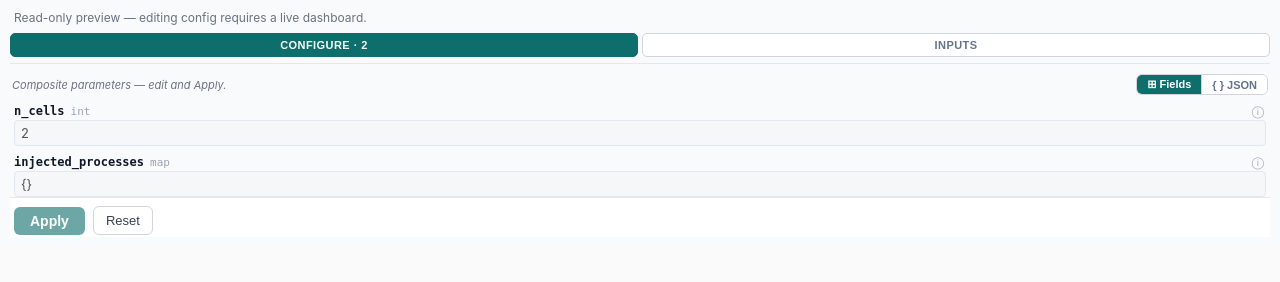
ConfigPanel — Configure Fields⇄JSON parity › readOnly disables the JSON textarea
The image size is (1280, 282).
Step 1. Click the tab "{ } JSON" → click(1234, 84), box [1201,75,1267,94]
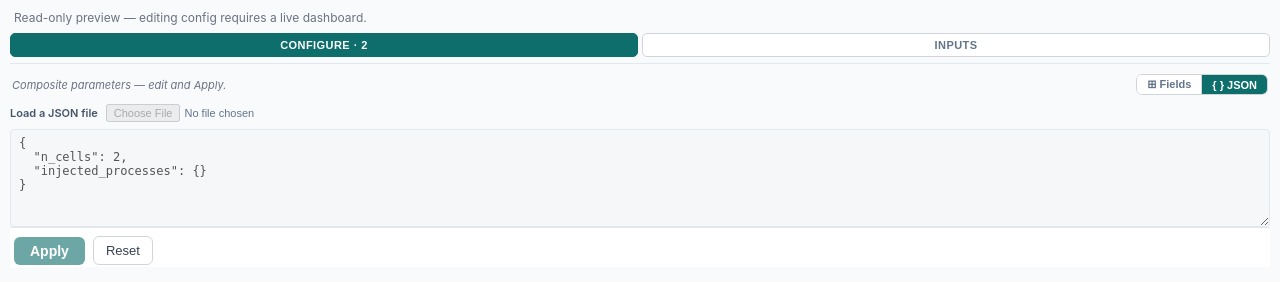
Expected: the text box with placeholder "matched onto this composite" is disabled, [10,129,1270,227]
